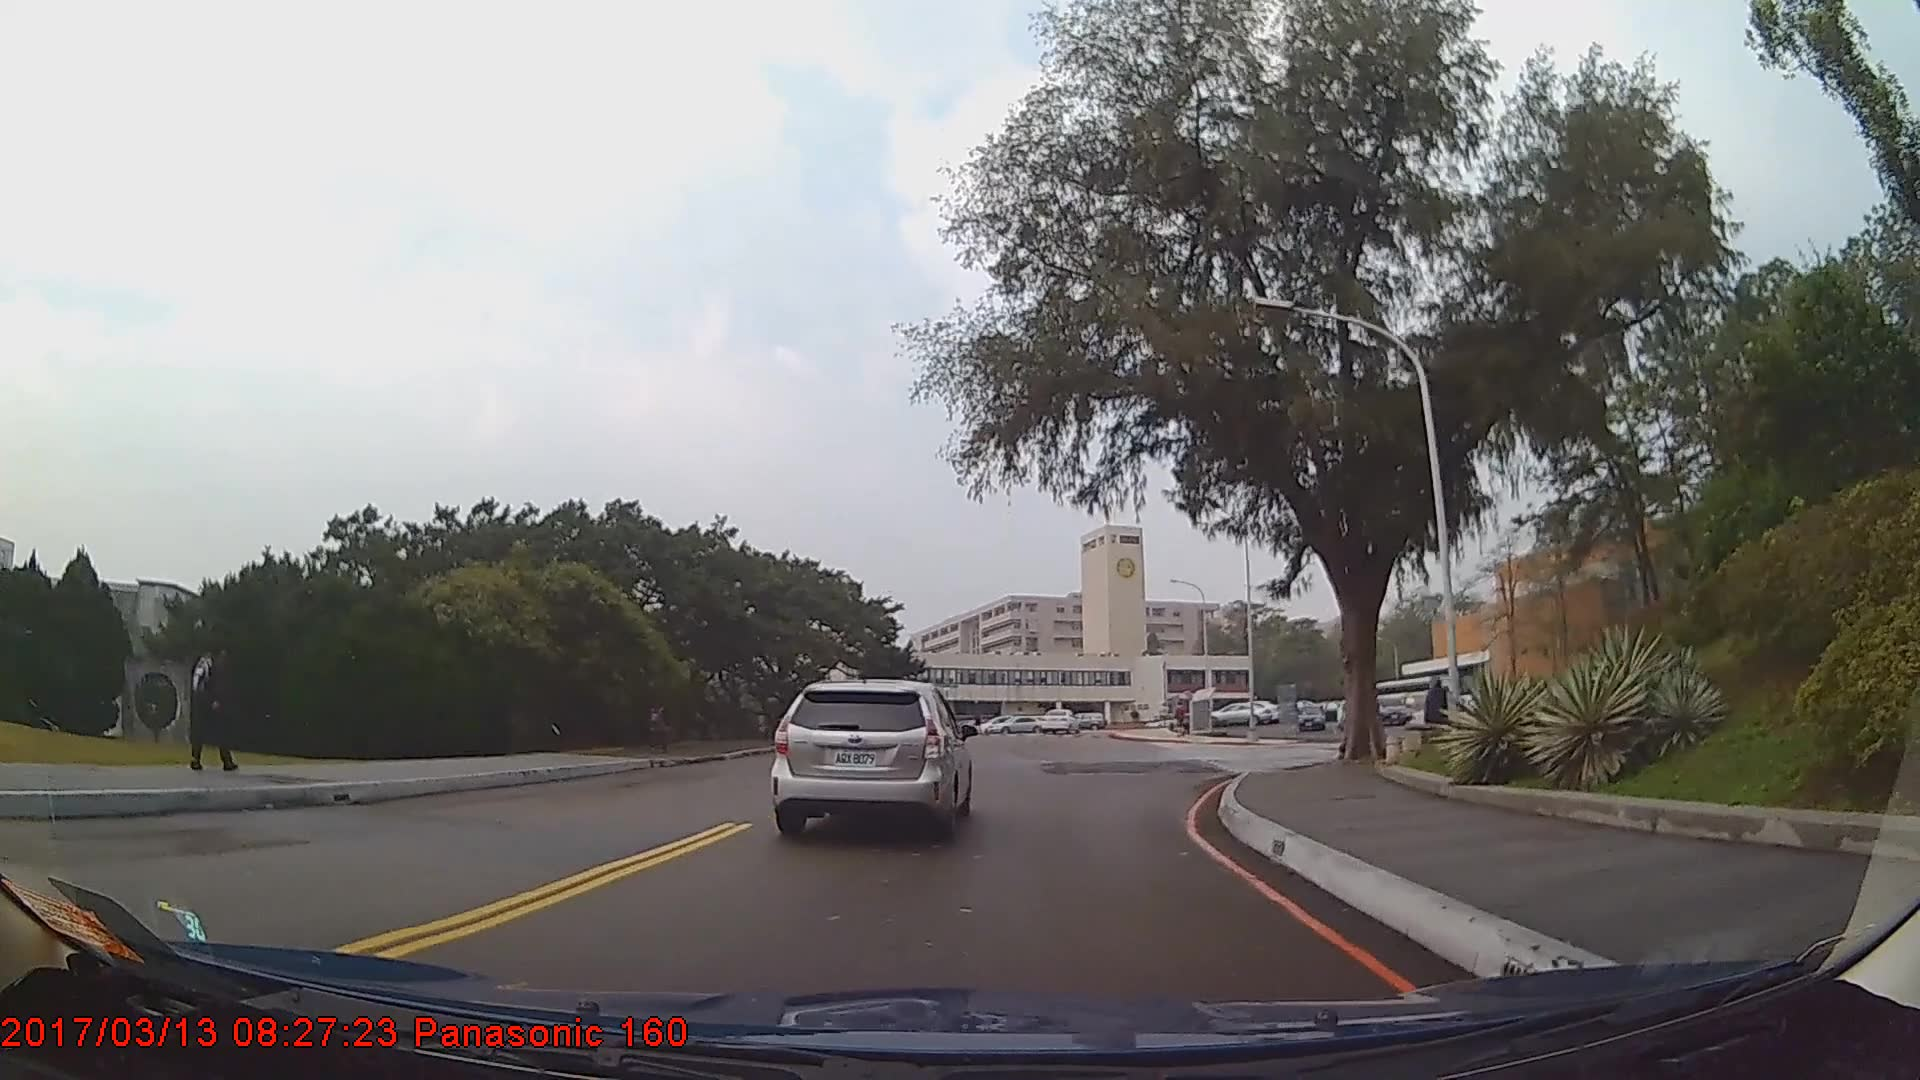pedestrian: (184, 637, 249, 772), (1418, 672, 1457, 775)
vehicle: (771, 680, 970, 842), (1209, 699, 1271, 726), (986, 711, 1049, 735), (1038, 706, 1083, 733), (1376, 696, 1409, 726), (1295, 704, 1324, 733)
